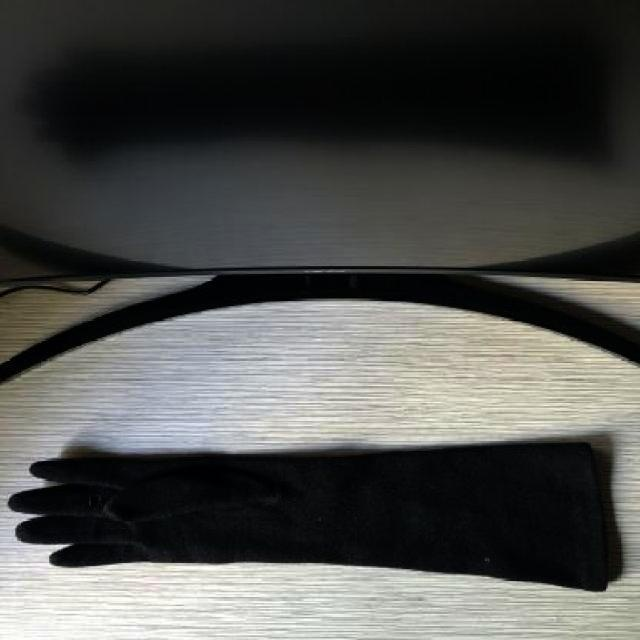Guantes: (7, 438, 611, 592)
